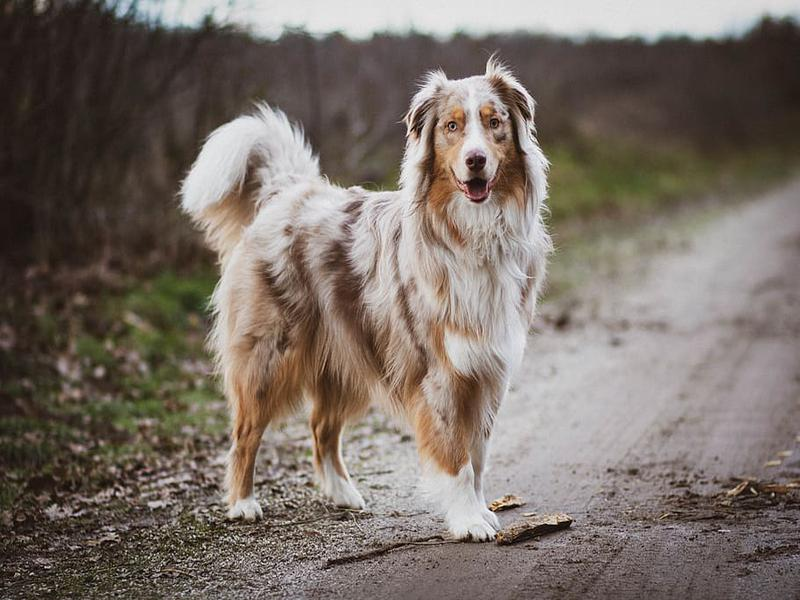dog_stand: (167, 46, 560, 544)
